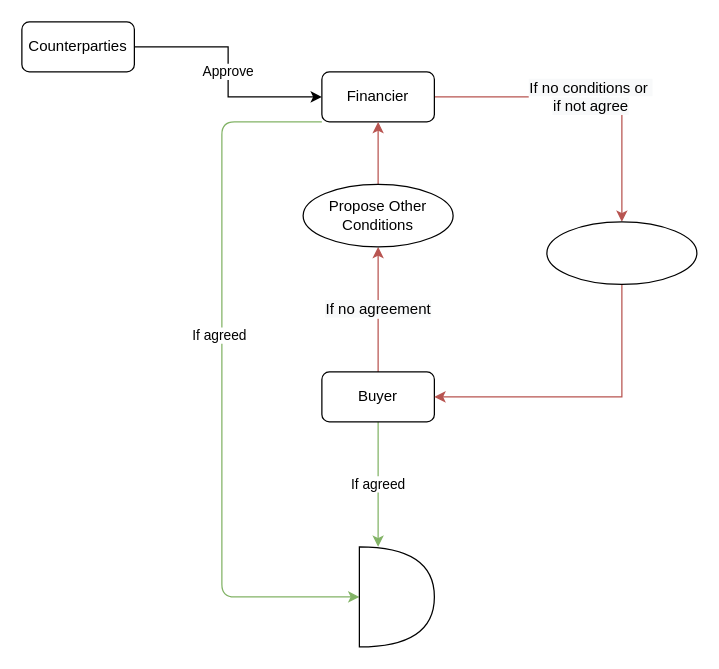
The diagram is 719 pixels wide and 669 high, and some of its shapes have lost their labels. Here are the shapes that lost their labels. From the top down, the centre of each, then its label:
pixel 621 252: Propose Conditions
pixel 396 596: Deal
